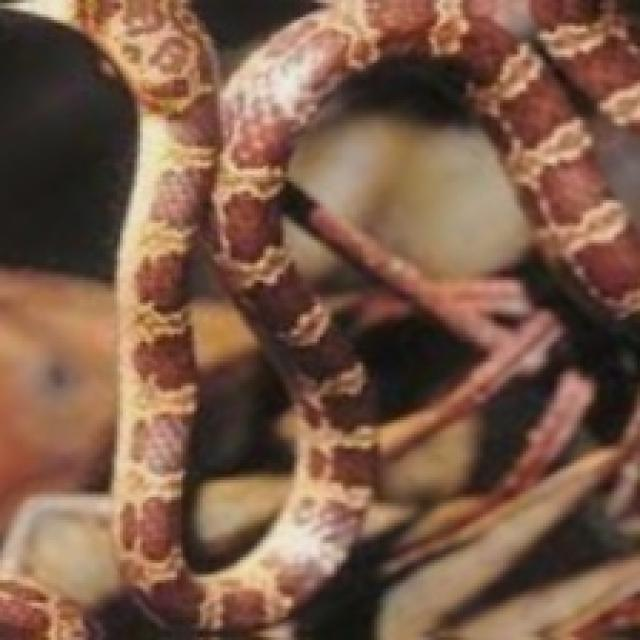mullers wolf snake: (11, 0, 637, 637)
